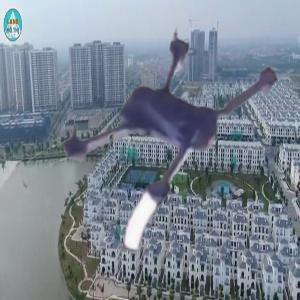drone: (21, 7, 299, 285)
